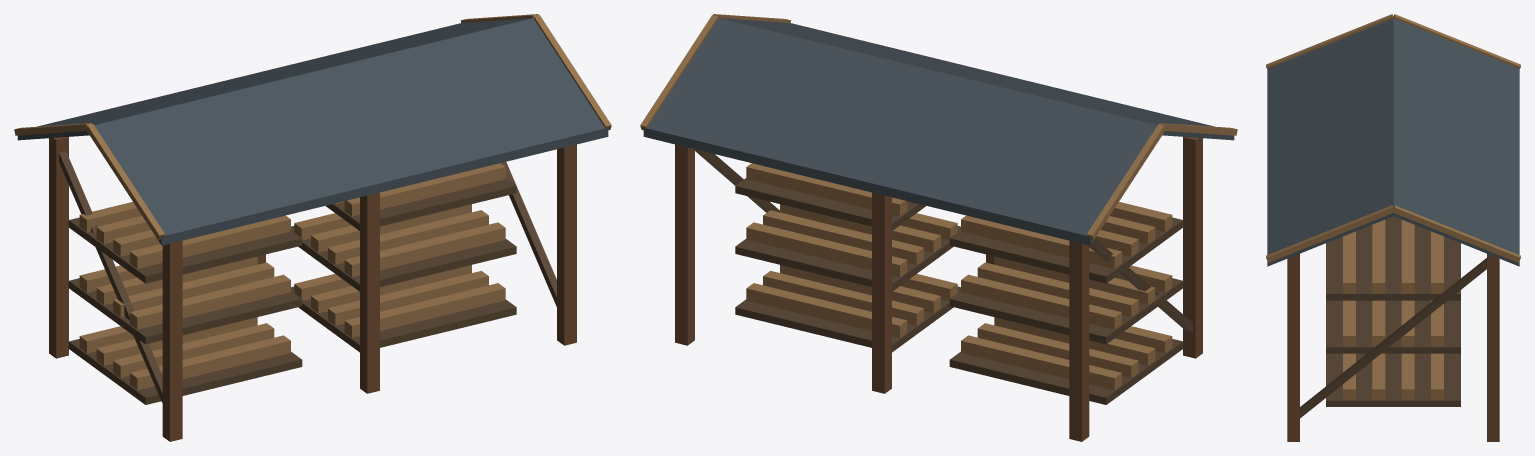
File: Building_Settlement_TimberDryingShed_001.glb
3 views of the same model, side by side, from view 1: azimuth 30°, elevation 25°; view 2: azimuth 150°, elevation 25°; view 3: azimuth 270°, elevation 25° (orthographic). The views are drawn at different scales.
Visible parts, largest first — view 1: Building_Settlement_TimberDryingShed_001; view 2: Building_Settlement_TimberDryingShed_001; view 3: Building_Settlement_TimberDryingShed_001.
Boxes of the visible parts, <box> form: Building_Settlement_TimberDryingShed_001: <box>14,14,611,441</box>; Building_Settlement_TimberDryingShed_001: <box>640,14,1237,441</box>; Building_Settlement_TimberDryingShed_001: <box>1266,14,1520,441</box>.
Bounding box in the file's own units: 7.8 × 4.59 × 4.34.
